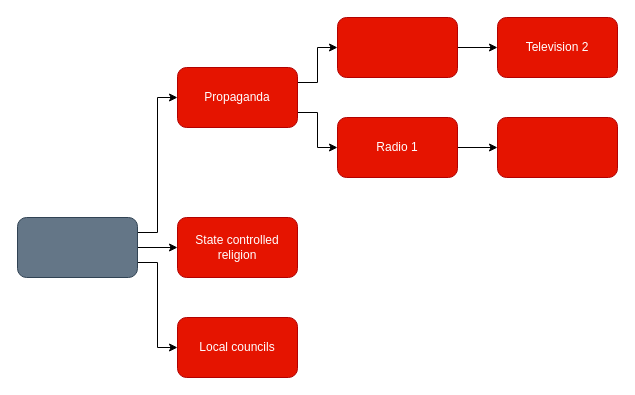
Image size: 635x395. Some labels were removed from this diagram. Each missing label, with the centre of its shape:
Radio 2: (557,147)
Revolutionary goverments: (77,247)
Television 1: (397,47)
